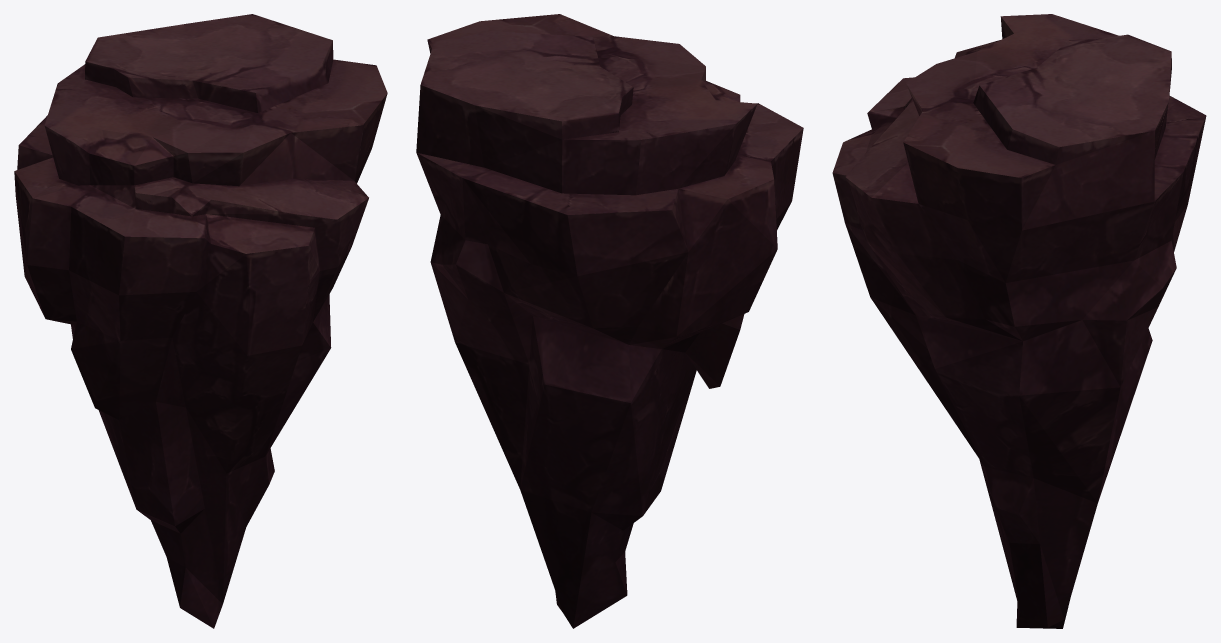
File: BOSS_E_03.FBX
3 renders of one model, left to right at view 1: azimuth 30°, elevation 25°; view 2: azimuth 150°, elevation 25°; view 3: azimuth 270°, elevation 25°, orthographic. The views are drawn at different scales.
Parts seen in each view (by area): view 1: BOSS_E_03; view 2: BOSS_E_03; view 3: BOSS_E_03.
Part boxes in pixels (<box>): BOSS_E_03: <box>14,14,387,628</box>; BOSS_E_03: <box>416,14,803,628</box>; BOSS_E_03: <box>832,14,1206,628</box>.
Size of the model in its own units: 8.64 by 13.05 by 7.93.
